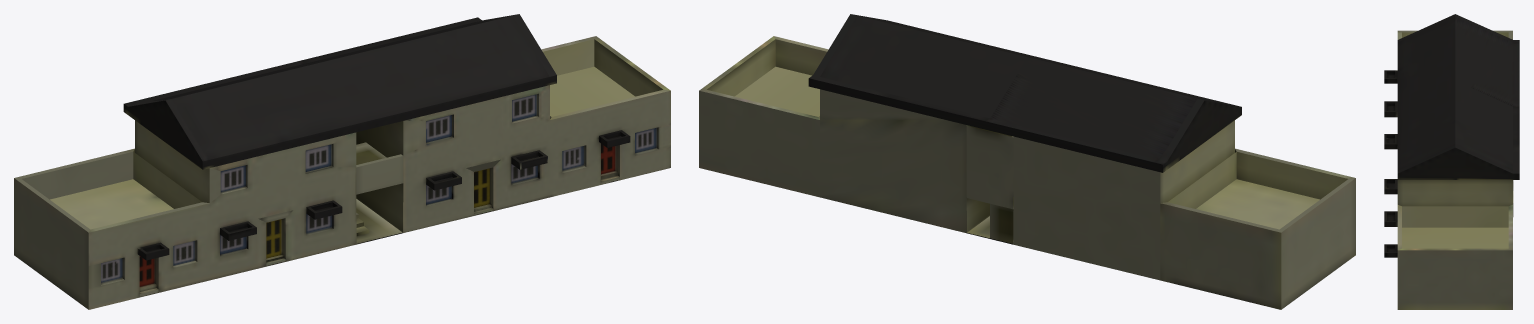
The model's file is quaters.glb.
3 views of the same model, side by side, from view 1: azimuth 30°, elevation 25°; view 2: azimuth 150°, elevation 25°; view 3: azimuth 270°, elevation 25° (orthographic). The views are drawn at different scales.
Parts seen in each view (by area): view 1: building; view 2: building; view 3: building.
Boxes of the visible parts, x1,y1,x2,y2 form: building: [14, 14, 670, 309]; building: [699, 14, 1355, 309]; building: [1384, 14, 1519, 309].
Bounding box in the file's own units: 89.86 × 22.78 × 23.39.
1 material, 1 textured.
